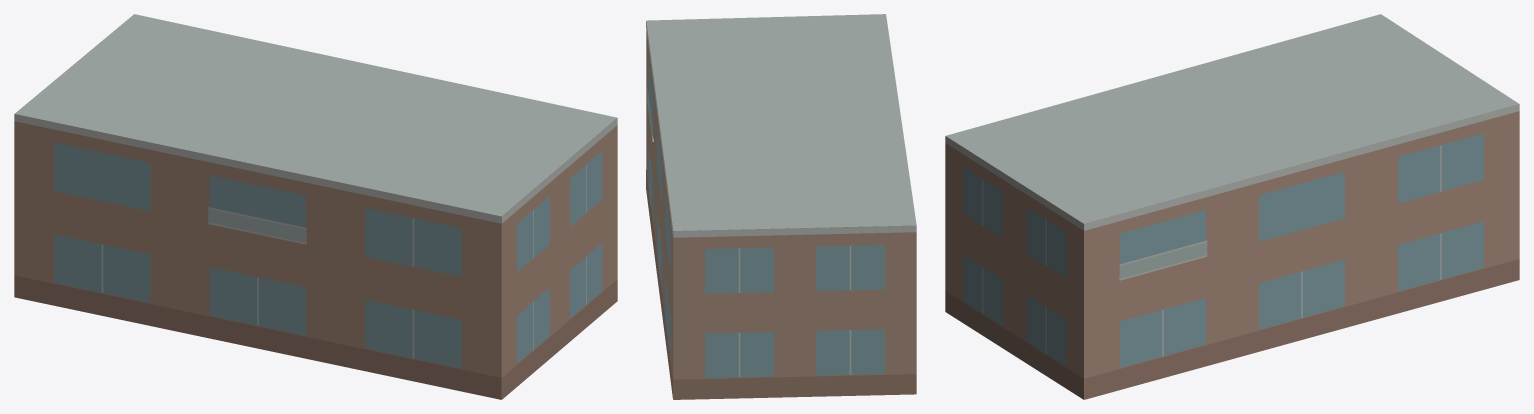
Rendered from survey-upis-32671807.glb.
3 views of the same model, side by side, from view 1: azimuth 30°, elevation 25°; view 2: azimuth 150°, elevation 25°; view 3: azimuth 270°, elevation 25° (orthographic). The views are drawn at different scales.
Visible parts, largest first — view 1: survey-upis-32671807.tmp; view 2: survey-upis-32671807.tmp; view 3: survey-upis-32671807.tmp.
Boxes of the visible parts, x1,y1,x2,y2 form: survey-upis-32671807.tmp: (14,14,617,399); survey-upis-32671807.tmp: (646,14,916,399); survey-upis-32671807.tmp: (945,14,1519,399).
Bounding box in the file's own units: 15.62 × 6.1 × 18.05.
